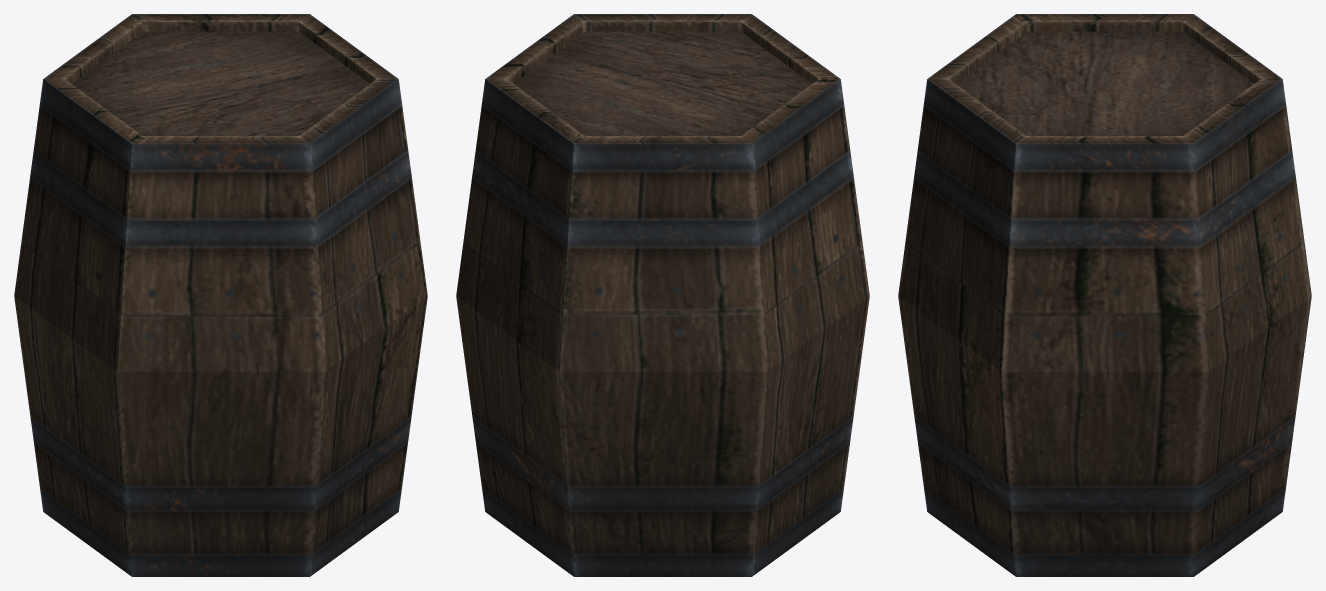
Rendered from Barrel.fbx.
The picture shows the model from 3 angles, left to right: view 1: azimuth 30°, elevation 25°; view 2: azimuth 150°, elevation 25°; view 3: azimuth 270°, elevation 25°; orthographic projection.
Visible parts, largest first — view 1: Barrel; view 2: Barrel; view 3: Barrel.
Boxes of the visible parts, x1,y1,x2,y2 form: Barrel: (14,14,427,576); Barrel: (456,14,869,576); Barrel: (898,14,1311,576).
Bounding box in the file's own units: 67.52 × 90.03 × 77.97.
